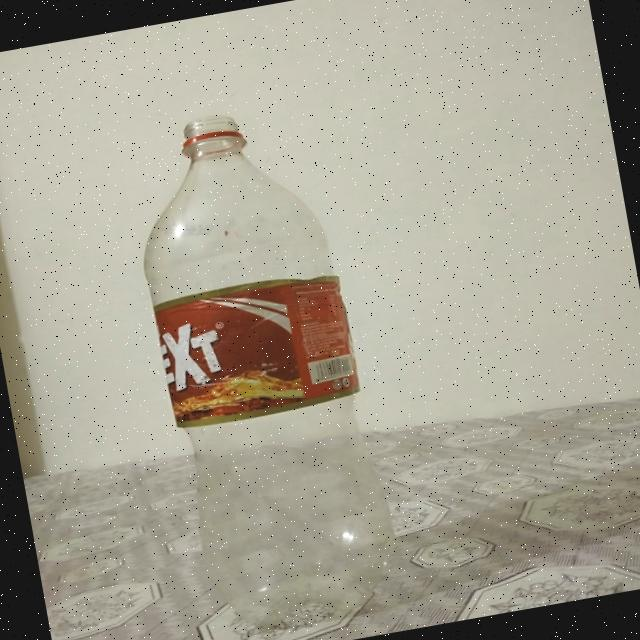bottle: (119, 89, 410, 640)
label: (147, 263, 373, 435)
